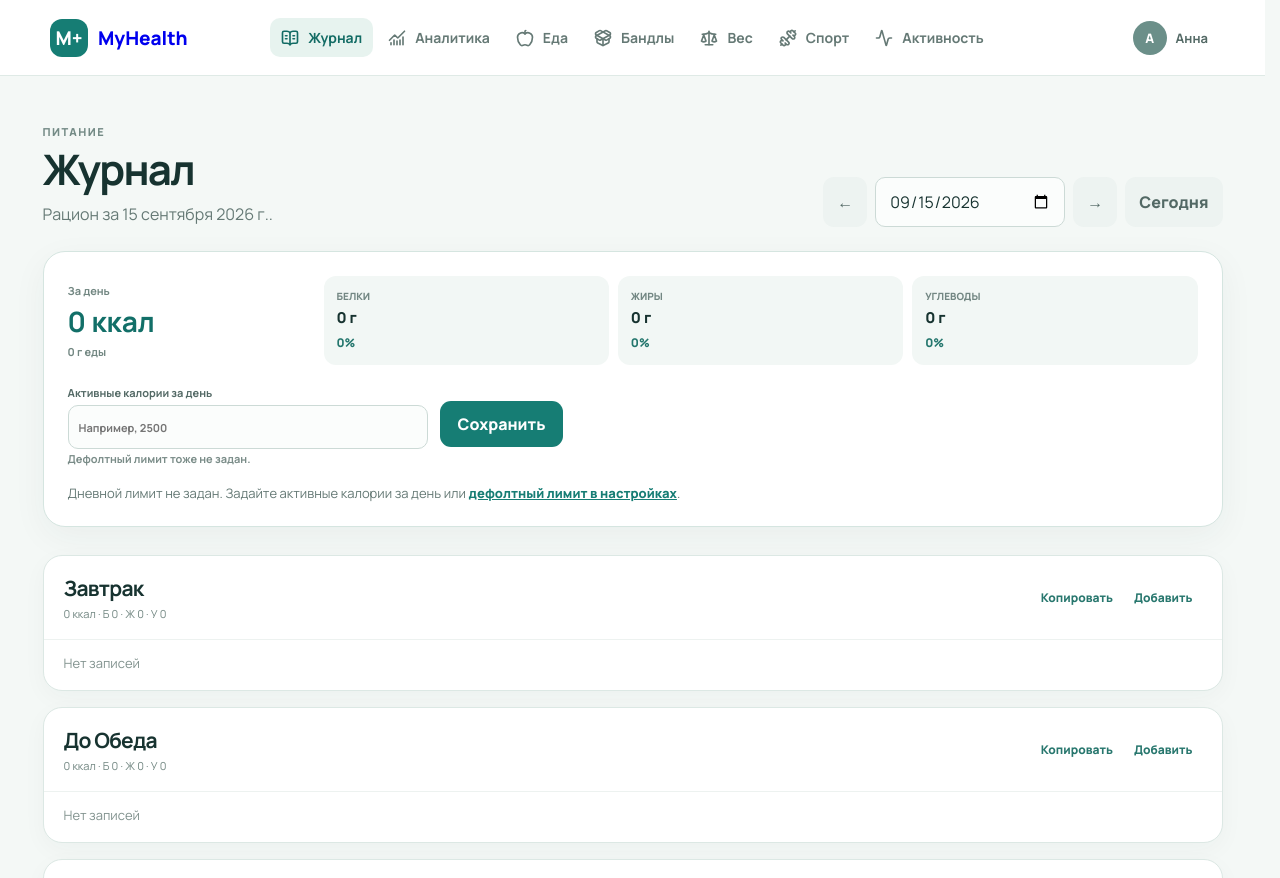
Test: MyHealth SPA › возвращает журнал на сегодняшнюю дату
Expected: the heading "завтрак" is shown, top-left (64, 574), bottom-right (143, 602)
Click the button "Сегодня" at (1174, 202), box top-left (1125, 177), bottom-right (1223, 227)
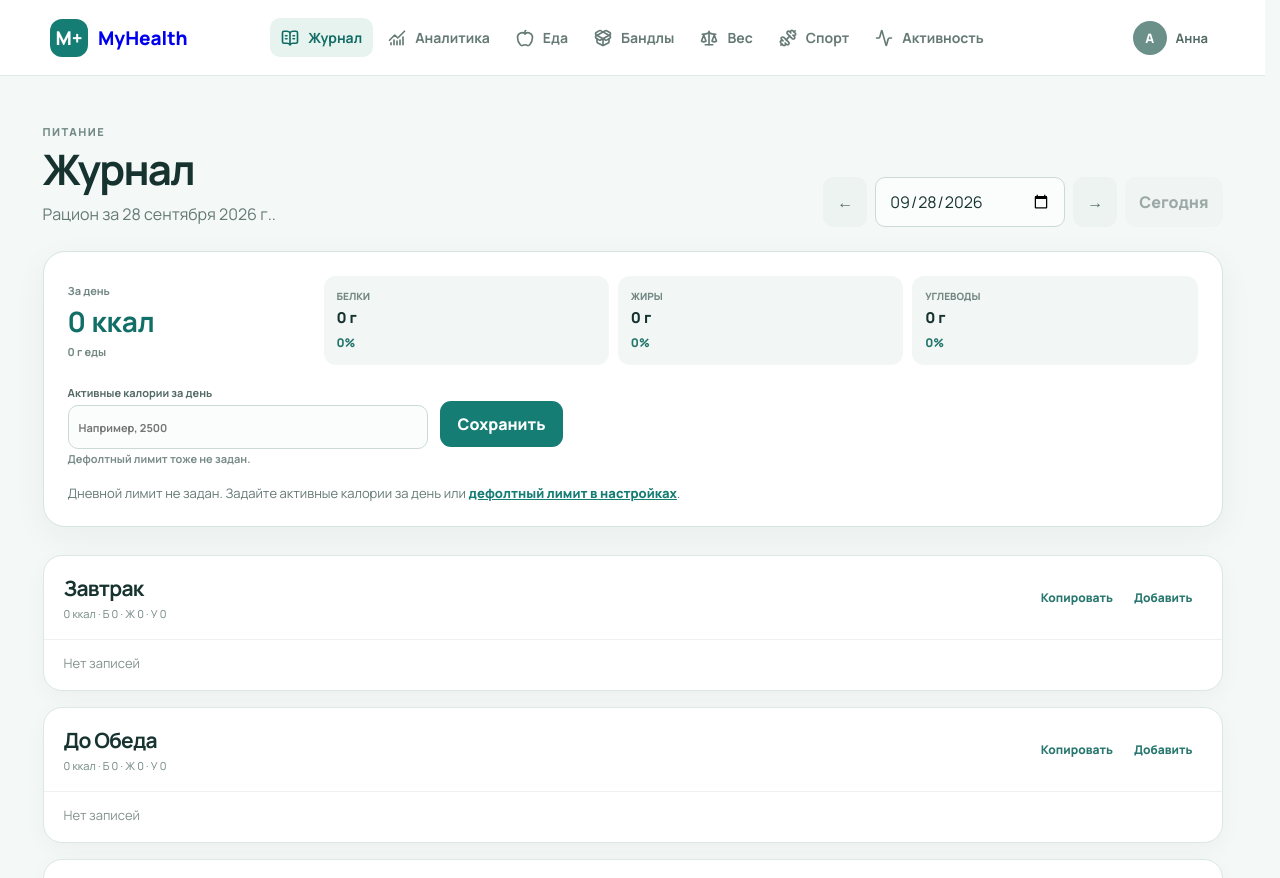
Now the button "Сегодня" is disabled, box top-left (1125, 177), bottom-right (1223, 227)
